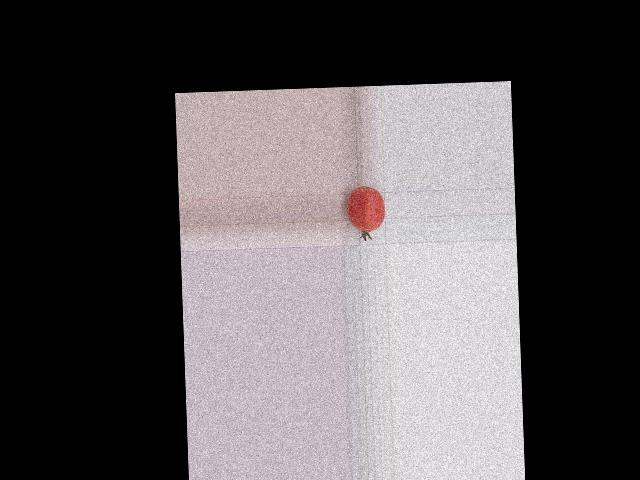tomato: (346, 185, 386, 232)
